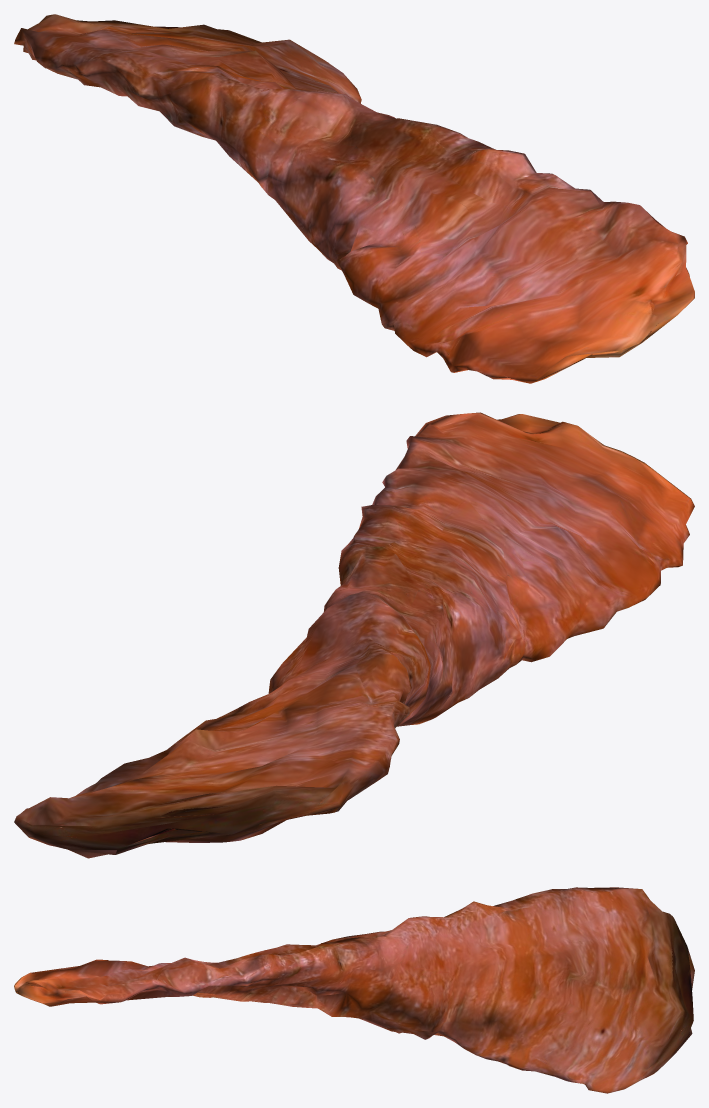
File: Soaked_Carrot_with_Chopped_Broccoli.obj
3 views of the same model, one above another, from view 1: azimuth 30°, elevation 25°; view 2: azimuth 150°, elevation 25°; view 3: azimuth 270°, elevation 25° (orthographic). The views are drawn at different scales.
Visible parts, largest first — view 1: Soaked_Carrot_with_Chopped_Broccoli_carrot; view 2: Soaked_Carrot_with_Chopped_Broccoli_carrot; view 3: Soaked_Carrot_with_Chopped_Broccoli_carrot.
Boxes of the visible parts, x1,y1,x2,y2 form: Soaked_Carrot_with_Chopped_Broccoli_carrot: [14, 14, 694, 383]; Soaked_Carrot_with_Chopped_Broccoli_carrot: [14, 412, 694, 858]; Soaked_Carrot_with_Chopped_Broccoli_carrot: [14, 887, 694, 1093].
Bounding box in the file's own units: 0.8495 × 0.3688 × 2.1.
1 material, 1 textured.
